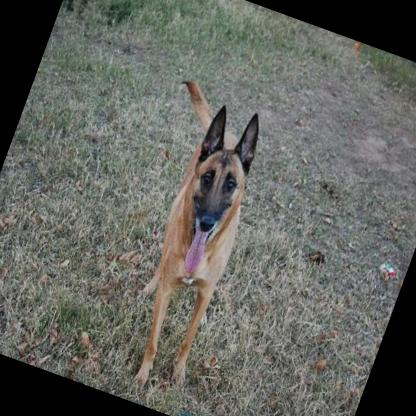malinois: (78, 75, 281, 398)
